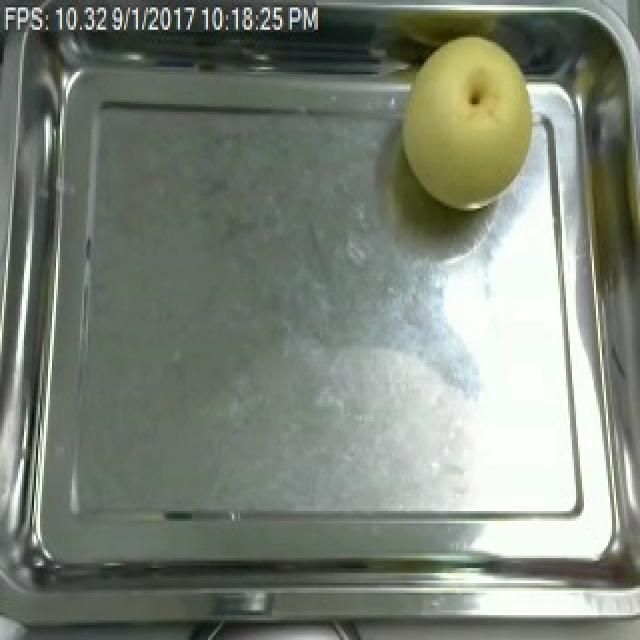Fruit: (390, 22, 548, 218)
